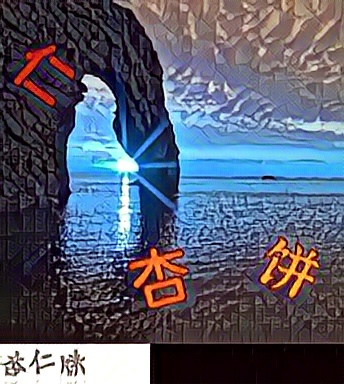B1FD: (254, 234, 318, 301)
C8CA: (12, 40, 76, 107)
D0D3: (128, 243, 192, 310)
